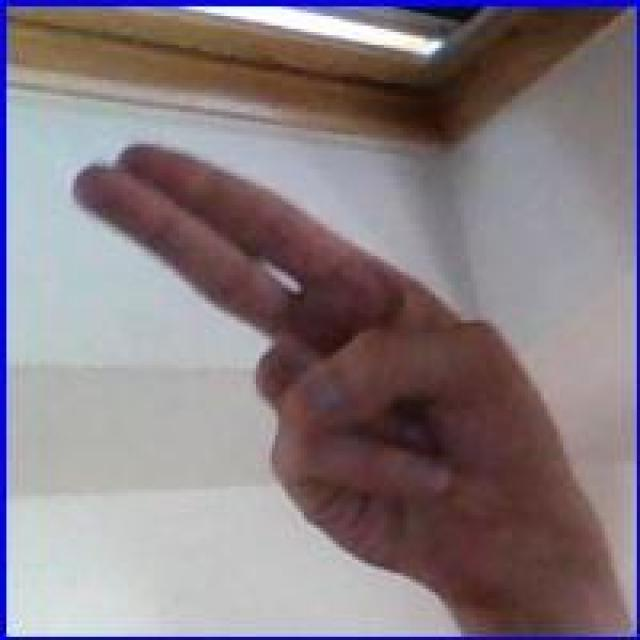H: (60, 138, 586, 608)
